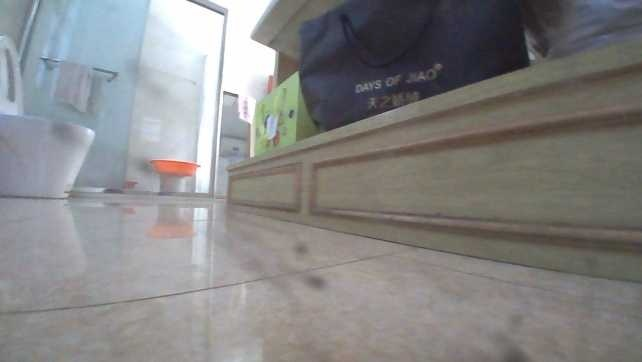toilet: (0, 37, 97, 200)
